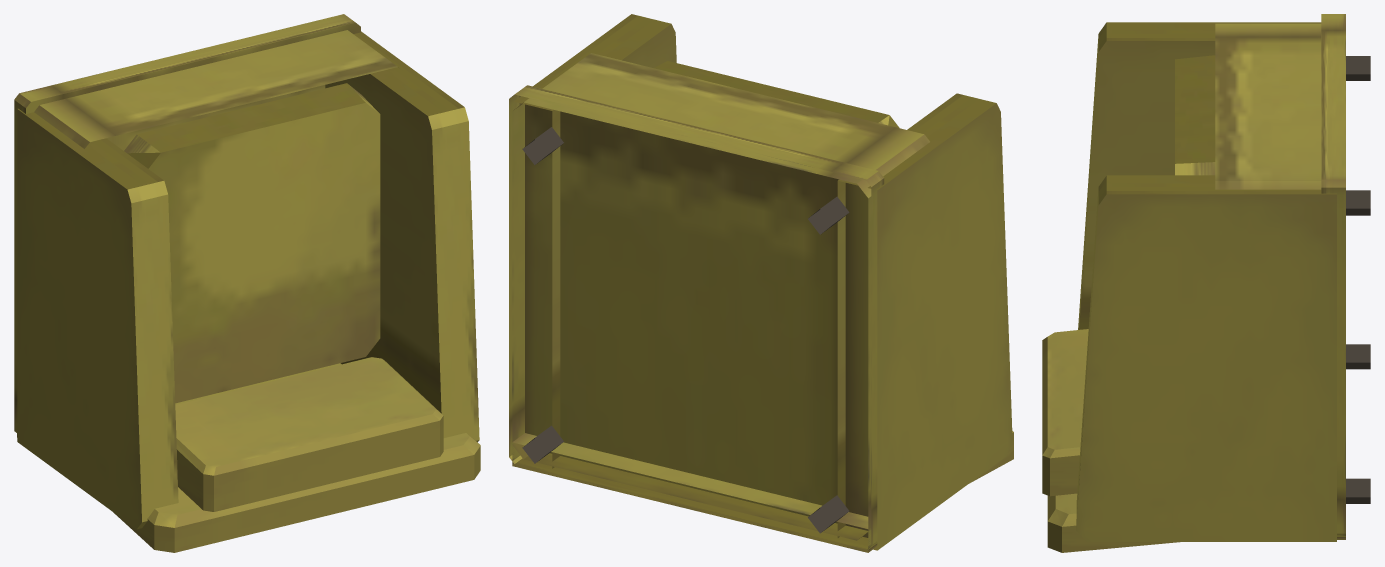
The model's file is pz_chair_seating_indoor_03_yellow_modern_fidelity_r1.obj.
The picture shows the model from 3 angles, left to right: view 1: azimuth 30°, elevation 25°; view 2: azimuth 150°, elevation 25°; view 3: azimuth 270°, elevation 25°; orthographic projection. The views are drawn at different scales.
Visible parts, largest first — view 1: pz_chair_seating_indoor_03_yellow_modern__seat_0__seat, pz_chair_seating_indoor_03_yellow_modern__straight_arm_-1__arm, pz_chair_seating_indoor_03_yellow_modern__straight_arm_1__arm, pz_chair_seating_indoor_03_yellow_modern__back_cushion_0__back, pz_chair_seating_indoor_03_yellow_modern__lower_body__body, pz_chair_seating_indoor_03_yellow_modern__rear_shell__back, pz_chair_seating_indoor_03_yellow_modern__low_plinth__body; view 2: pz_chair_seating_indoor_03_yellow_modern__low_plinth__body, pz_chair_seating_indoor_03_yellow_modern__straight_arm_-1__arm, pz_chair_seating_indoor_03_yellow_modern__lower_body__body, pz_chair_seating_indoor_03_yellow_modern__straight_arm_1__arm, pz_chair_seating_indoor_03_yellow_modern__rear_body_bridge__body, pz_chair_seating_indoor_03_yellow_modern__seat_0__seat, pz_chair_seating_indoor_03_yellow_modern__foot_-1_1__frame, pz_chair_seating_indoor_03_yellow_modern__foot_1_-1__frame, pz_chair_seating_indoor_03_yellow_modern__foot_1_1__frame, pz_chair_seating_indoor_03_yellow_modern__foot_-1_-1__frame; view 3: pz_chair_seating_indoor_03_yellow_modern__straight_arm_1__arm, pz_chair_seating_indoor_03_yellow_modern__lower_body__body, pz_chair_seating_indoor_03_yellow_modern__straight_arm_-1__arm, pz_chair_seating_indoor_03_yellow_modern__low_plinth__body, pz_chair_seating_indoor_03_yellow_modern__back_cushion_0__back, pz_chair_seating_indoor_03_yellow_modern__seat_0__seat, pz_chair_seating_indoor_03_yellow_modern__rear_shell__back, pz_chair_seating_indoor_03_yellow_modern__foot_-1_-1__frame, pz_chair_seating_indoor_03_yellow_modern__foot_1_-1__frame, pz_chair_seating_indoor_03_yellow_modern__foot_1_1__frame, pz_chair_seating_indoor_03_yellow_modern__foot_-1_1__frame.
Part boxes in pixels (left/top/right/bottom): pz_chair_seating_indoor_03_yellow_modern__seat_0__seat: left=124, top=83, right=380, bottom=403; pz_chair_seating_indoor_03_yellow_modern__straight_arm_-1__arm: left=17, top=108, right=178, bottom=529; pz_chair_seating_indoor_03_yellow_modern__straight_arm_1__arm: left=325, top=31, right=479, bottom=442; pz_chair_seating_indoor_03_yellow_modern__back_cushion_0__back: left=175, top=357, right=443, bottom=511; pz_chair_seating_indoor_03_yellow_modern__lower_body__body: left=34, top=30, right=399, bottom=148; pz_chair_seating_indoor_03_yellow_modern__rear_shell__back: left=113, top=433, right=480, bottom=552; pz_chair_seating_indoor_03_yellow_modern__low_plinth__body: left=14, top=14, right=360, bottom=432; pz_chair_seating_indoor_03_yellow_modern__low_plinth__body: left=509, top=85, right=884, bottom=549; pz_chair_seating_indoor_03_yellow_modern__straight_arm_-1__arm: left=837, top=93, right=1012, bottom=550; pz_chair_seating_indoor_03_yellow_modern__lower_body__body: left=512, top=53, right=929, bottom=540; pz_chair_seating_indoor_03_yellow_modern__straight_arm_1__arm: left=514, top=14, right=676, bottom=468; pz_chair_seating_indoor_03_yellow_modern__rear_body_bridge__body: left=512, top=433, right=877, bottom=552; pz_chair_seating_indoor_03_yellow_modern__seat_0__seat: left=653, top=61, right=899, bottom=127; pz_chair_seating_indoor_03_yellow_modern__foot_-1_1__frame: left=808, top=196, right=849, bottom=234; pz_chair_seating_indoor_03_yellow_modern__foot_1_-1__frame: left=522, top=425, right=563, bottom=463; pz_chair_seating_indoor_03_yellow_modern__foot_1_1__frame: left=522, top=127, right=563, bottom=164; pz_chair_seating_indoor_03_yellow_modern__foot_-1_-1__frame: left=808, top=495, right=849, bottom=533; pz_chair_seating_indoor_03_yellow_modern__straight_arm_1__arm: left=1076, top=175, right=1336, bottom=541; pz_chair_seating_indoor_03_yellow_modern__lower_body__body: left=1215, top=23, right=1321, bottom=189; pz_chair_seating_indoor_03_yellow_modern__straight_arm_-1__arm: left=1078, top=22, right=1321, bottom=329; pz_chair_seating_indoor_03_yellow_modern__low_plinth__body: left=1321, top=14, right=1345, bottom=535; pz_chair_seating_indoor_03_yellow_modern__back_cushion_0__back: left=1042, top=329, right=1088, bottom=496; pz_chair_seating_indoor_03_yellow_modern__seat_0__seat: left=1175, top=55, right=1215, bottom=175; pz_chair_seating_indoor_03_yellow_modern__rear_shell__back: left=1047, top=493, right=1179, bottom=552; pz_chair_seating_indoor_03_yellow_modern__foot_-1_-1__frame: left=1346, top=344, right=1370, bottom=369; pz_chair_seating_indoor_03_yellow_modern__foot_1_-1__frame: left=1346, top=478, right=1370, bottom=503; pz_chair_seating_indoor_03_yellow_modern__foot_1_1__frame: left=1346, top=190, right=1370, bottom=215; pz_chair_seating_indoor_03_yellow_modern__foot_-1_1__frame: left=1346, top=56, right=1370, bottom=80.
Bounding box in the file's own units: 0.8957 × 0.9086 × 0.7227.
1 material, 1 textured.
